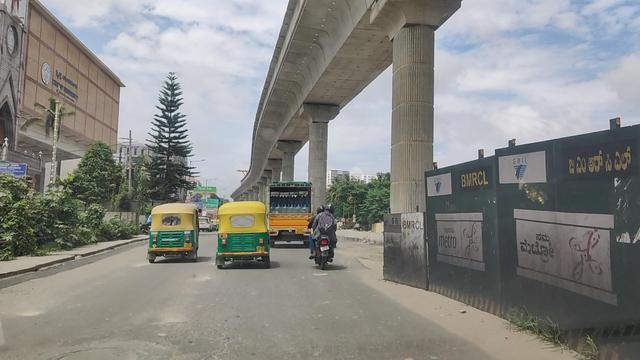HMV: (264, 185, 309, 245)
LMV: (221, 203, 273, 267), (151, 204, 201, 264), (311, 202, 335, 270)
